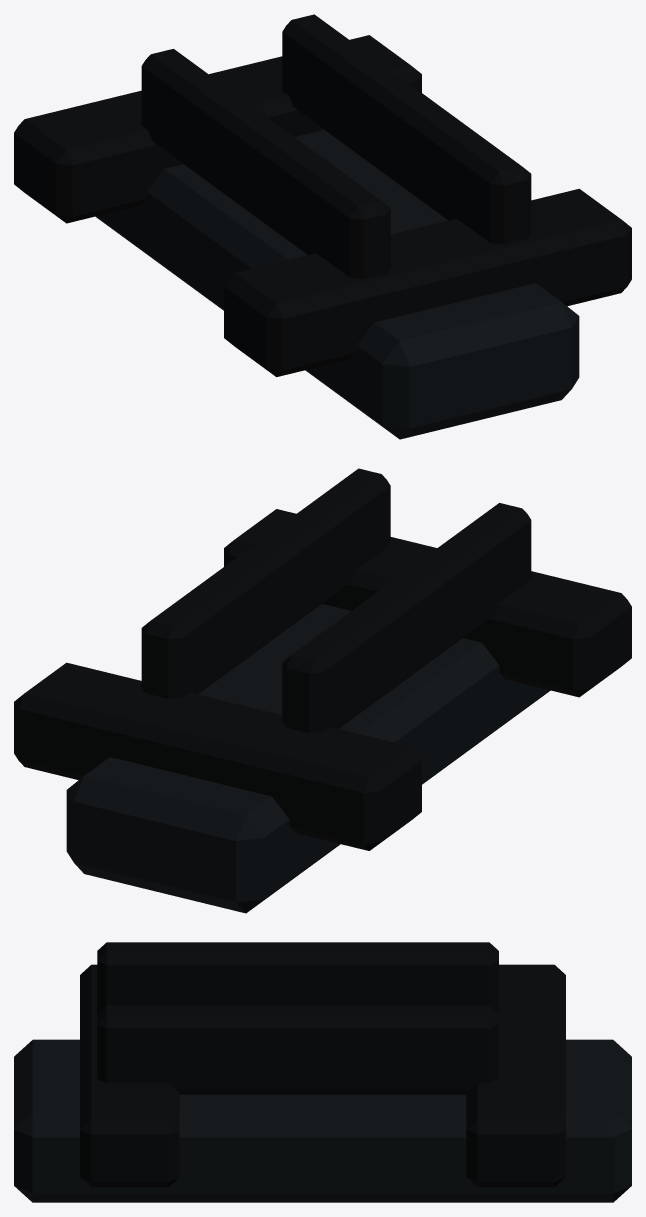
The model's file is PylonLight__StoreInterface.obj.
The picture shows the model from 3 angles, top to bottom: view 1: azimuth 30°, elevation 25°; view 2: azimuth 150°, elevation 25°; view 3: azimuth 270°, elevation 25°; orthographic projection. The views are drawn at different scales.
Parts seen in each view (by area): view 1: Lower_store_interface, Sway_brace, Store_actuator_cover.001, Store_actuator_cover, Sway_brace.001; view 2: Lower_store_interface, Sway_brace.001, Store_actuator_cover.001, Store_actuator_cover, Sway_brace; view 3: Lower_store_interface, Store_actuator_cover.001, Store_actuator_cover, Sway_brace.001, Sway_brace.
Boxes of the visible parts, box(x1,y1,x2,y2) form: Lower_store_interface: box(95, 130, 579, 439); Sway_brace: box(224, 188, 631, 377); Store_actuator_cover.001: box(282, 14, 531, 244); Store_actuator_cover: box(141, 49, 390, 278); Sway_brace.001: box(14, 35, 421, 223); Lower_store_interface: box(66, 604, 550, 913); Sway_brace.001: box(14, 662, 421, 850); Store_actuator_cover.001: box(141, 468, 390, 698); Store_actuator_cover: box(282, 503, 531, 733); Sway_brace: box(224, 509, 631, 697); Lower_store_interface: box(14, 1039, 631, 1202); Store_actuator_cover.001: box(97, 1005, 498, 1094); Store_actuator_cover: box(97, 942, 498, 1013); Sway_brace.001: box(466, 964, 565, 1187); Sway_brace: box(80, 964, 179, 1187).
Size of the model in its own units: 0.312 by 0.166 by 0.496.
